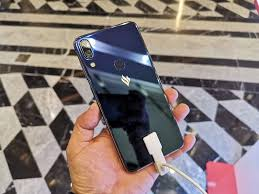vsmart: (72, 19, 190, 175)
